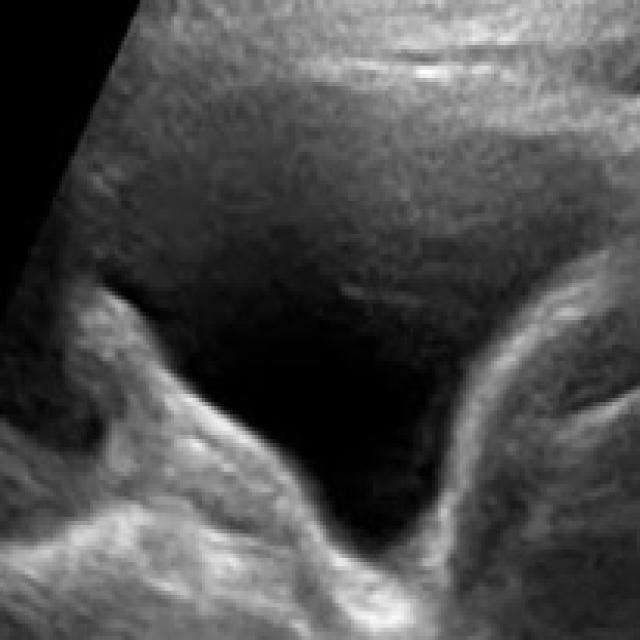bladder: (47, 11, 615, 608)
